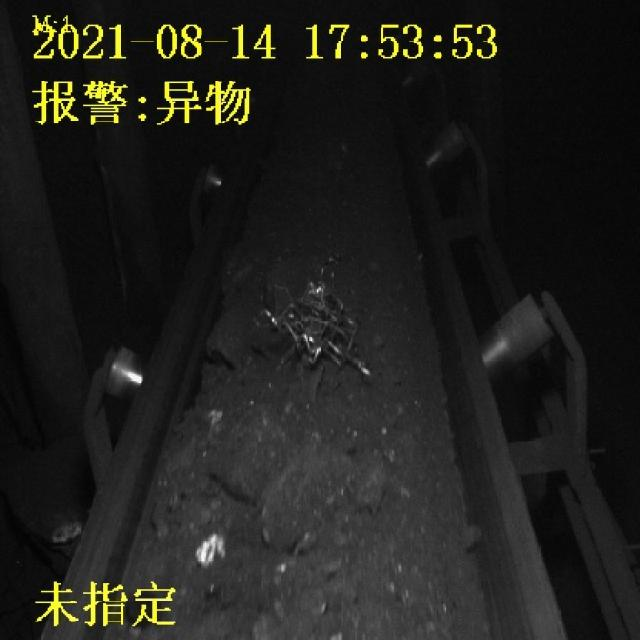Other_garbage: (271, 278, 369, 371)
large_sized_coal: (263, 438, 359, 556), (214, 414, 289, 495), (208, 309, 252, 369)
